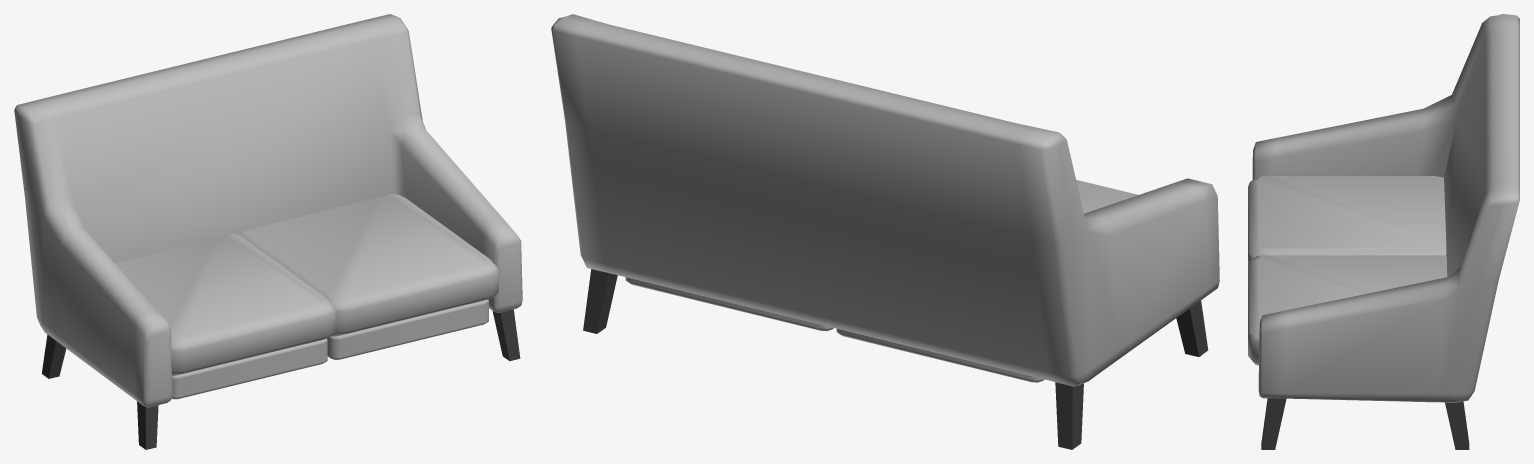
Rendered from Sofa_01_Double.fbx.
The picture shows the model from 3 angles, left to right: view 1: azimuth 30°, elevation 25°; view 2: azimuth 150°, elevation 25°; view 3: azimuth 270°, elevation 25°; orthographic projection. The views are drawn at different scales.
Parts seen in each view (by area): view 1: Sofa_01_Double; view 2: Sofa_01_Double; view 3: Sofa_01_Double.
Boxes of the visible parts, x1,y1,x2,y2 form: Sofa_01_Double: (14, 14, 522, 449); Sofa_01_Double: (551, 14, 1219, 449); Sofa_01_Double: (1248, 14, 1519, 449).
Bounding box in the file's own units: 1.42 × 0.8985 × 0.8753.
